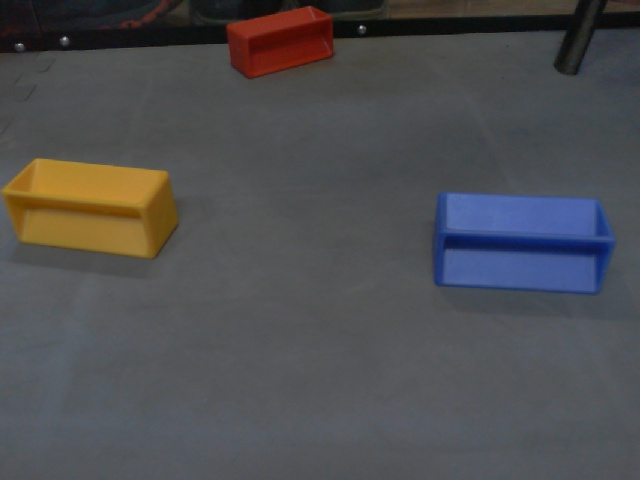BlueSample: (430, 188, 616, 298)
RedSample: (224, 5, 335, 80)
YellowSample: (1, 155, 180, 261)
